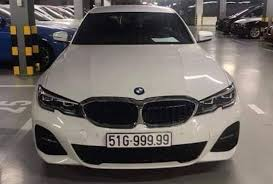Car number plates: (106, 132, 174, 146)
